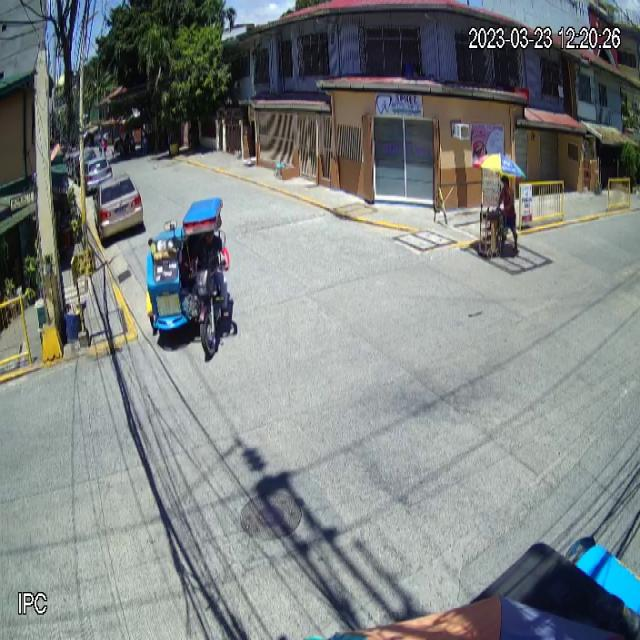Tricycle: (145, 196, 232, 357)
